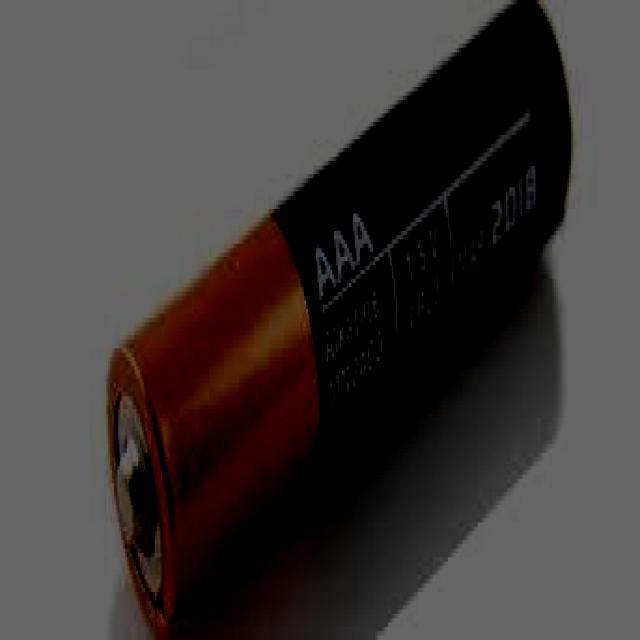AAA: (102, 0, 575, 636)
